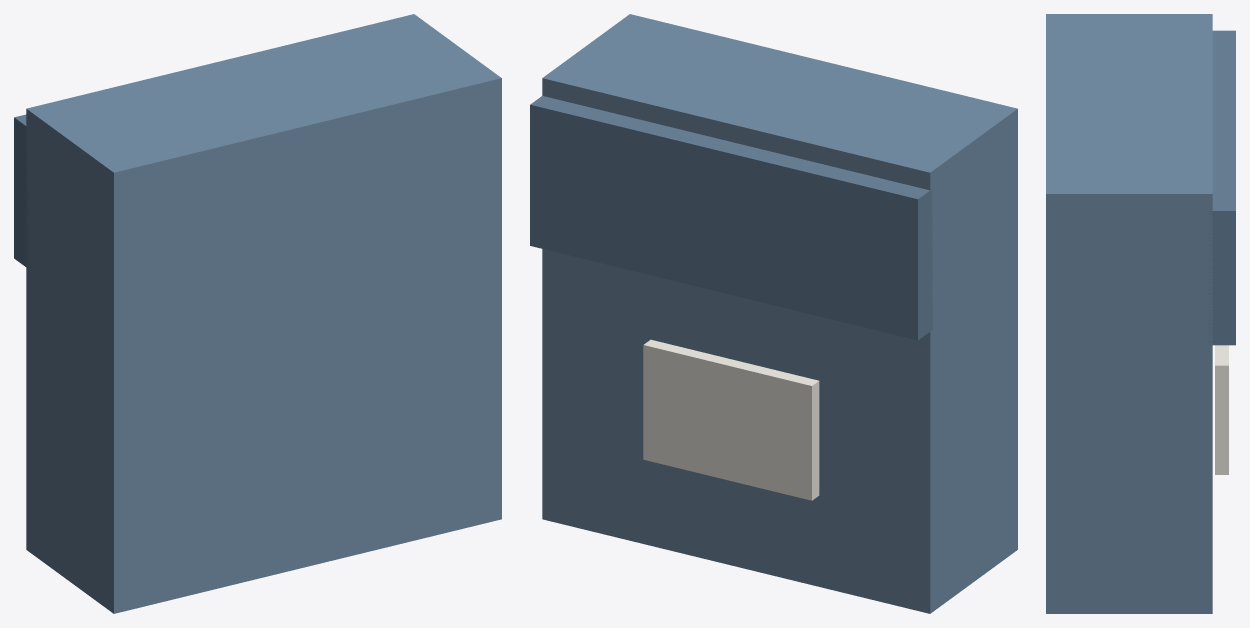
Rendered from mailbag.glb.
The picture shows the model from 3 angles, left to right: view 1: azimuth 30°, elevation 25°; view 2: azimuth 150°, elevation 25°; view 3: azimuth 270°, elevation 25°; orthographic projection. The views are drawn at different scales.
Visible parts, largest first — view 1: mailbag; view 2: mailbag; view 3: mailbag.
Part boxes in pixels (left/top/right/bottom): mailbag: left=14, top=14, right=501, bottom=613; mailbag: left=530, top=14, right=1017, bottom=613; mailbag: left=1046, top=14, right=1235, bottom=613.
Size of the model in its own units: 0.46 by 0.5 by 0.205.
